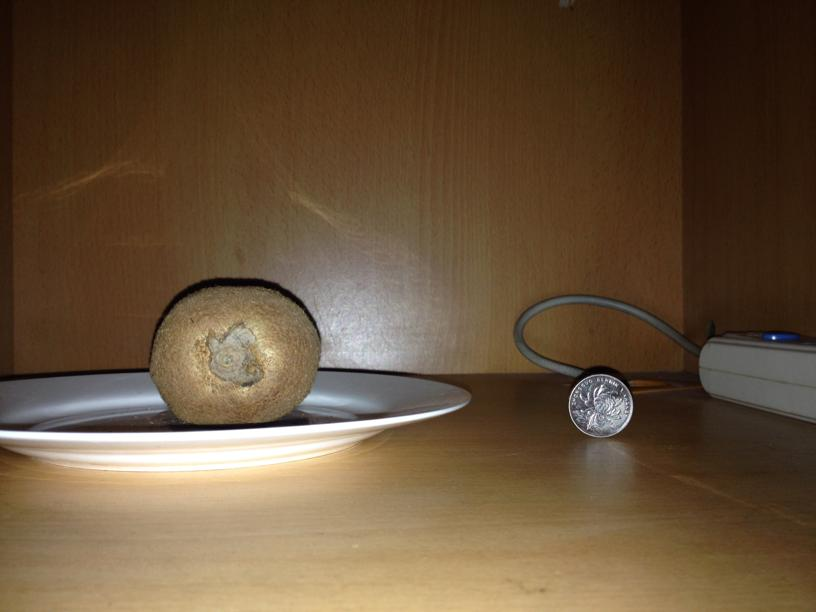coin: (570, 373, 633, 438)
qiwi: (145, 284, 321, 423)
